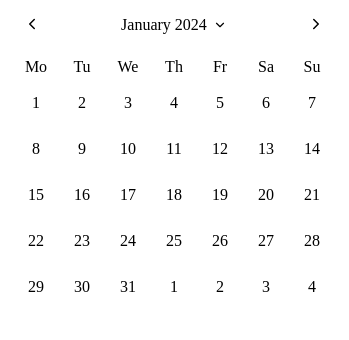
Test: Calendar › year / month views › swaps the day grid out entirely while browsing year/month views
What coordinates should you click on to do the following:
click the button with aria-label "Choose year"
I would click on:
 (174, 25)
Its box is [121, 16, 227, 34].
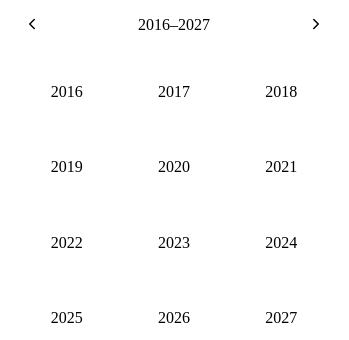
Check: the element with class "okkly-calendar__grid" is gone
Check: the button with class "okkly-calendar__day--in-range" is gone
